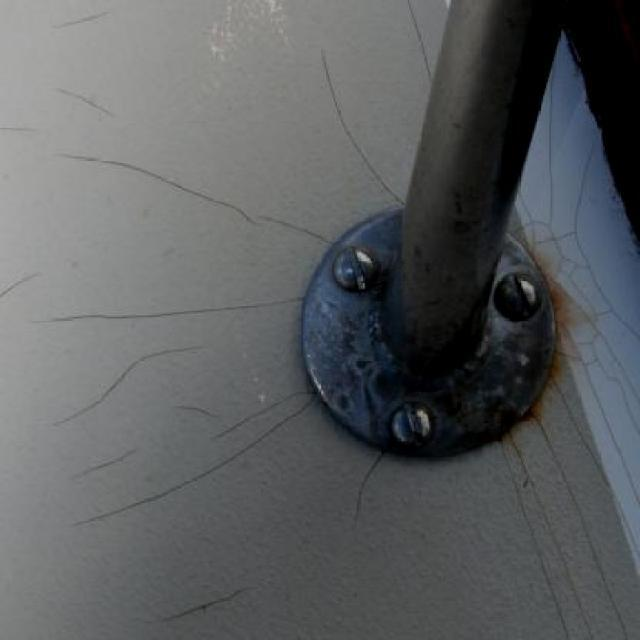crack: (72, 404, 329, 535), (46, 134, 277, 254), (24, 284, 297, 343), (46, 337, 208, 428), (315, 55, 409, 204), (193, 389, 318, 454), (146, 580, 294, 634), (260, 207, 345, 252), (359, 452, 401, 529), (149, 386, 220, 429), (80, 439, 143, 478)
